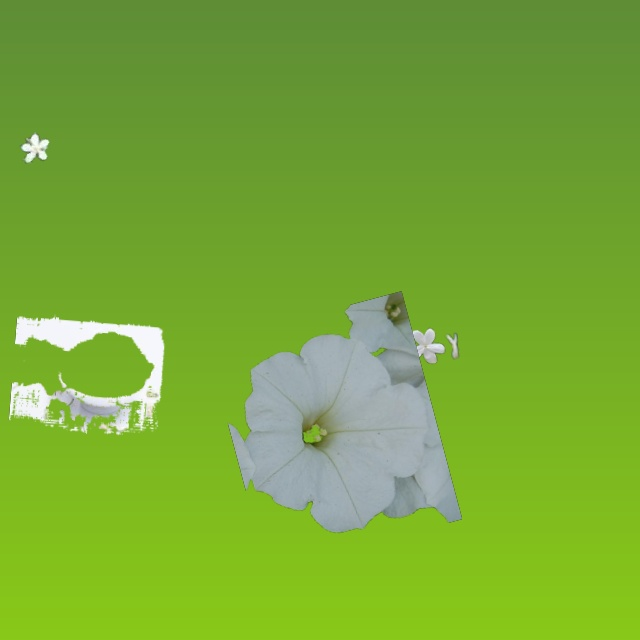jasmine: (9, 317, 163, 434), (409, 328, 458, 363), (20, 132, 48, 162)
petunia: (228, 291, 461, 532)
